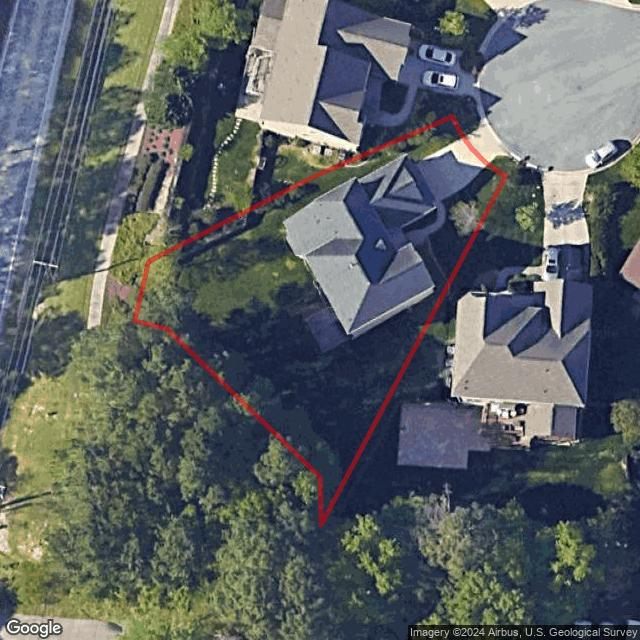Driveway: (405, 137, 486, 211)
Extra-Driveway: (464, 118, 513, 165)
Extra-Lawn: (453, 104, 480, 136), (489, 156, 517, 176)
House: (283, 153, 437, 340)
Lawn: (135, 117, 505, 525)
Other: (302, 301, 351, 354), (413, 239, 449, 292), (449, 199, 478, 237), (401, 208, 436, 232)
Sidewalk: (404, 205, 445, 246)
